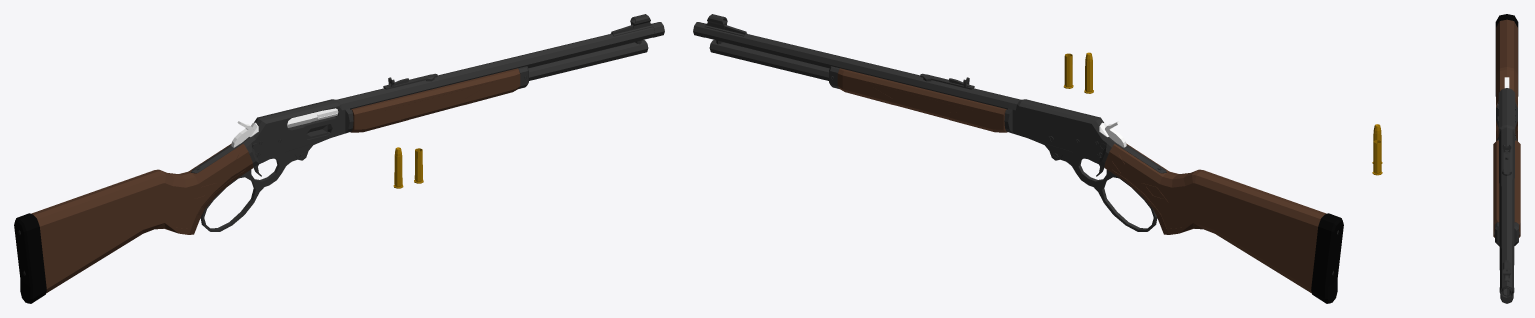
File: Rifle_marlin.fbx
3 views of the same model, side by side, from view 1: azimuth 30°, elevation 25°; view 2: azimuth 150°, elevation 25°; view 3: azimuth 270°, elevation 25° (orthographic).
Visible parts, largest first — view 1: gbl, lever gbl, bolt gbl; view 2: gbl, lever gbl; view 3: gbl, 11653, muzzle gbl, 11.6x53.
Boxes of the visible parts, left/top/right/bottom form: gbl: left=14, top=14, right=654, bottom=303; lever gbl: left=200, top=152, right=304, bottom=231; bolt gbl: left=249, top=108, right=338, bottom=137; gbl: left=703, top=14, right=1343, bottom=303; lever gbl: left=1053, top=152, right=1157, bottom=231; gbl: left=1493, top=14, right=1520, bottom=303; 11653: left=1372, top=140, right=1382, bottom=175; muzzle gbl: left=1499, top=281, right=1514, bottom=298; 11.6x53: left=1372, top=124, right=1382, bottom=163.
Size of the model in its own units: 1137 by 232 by 227.
